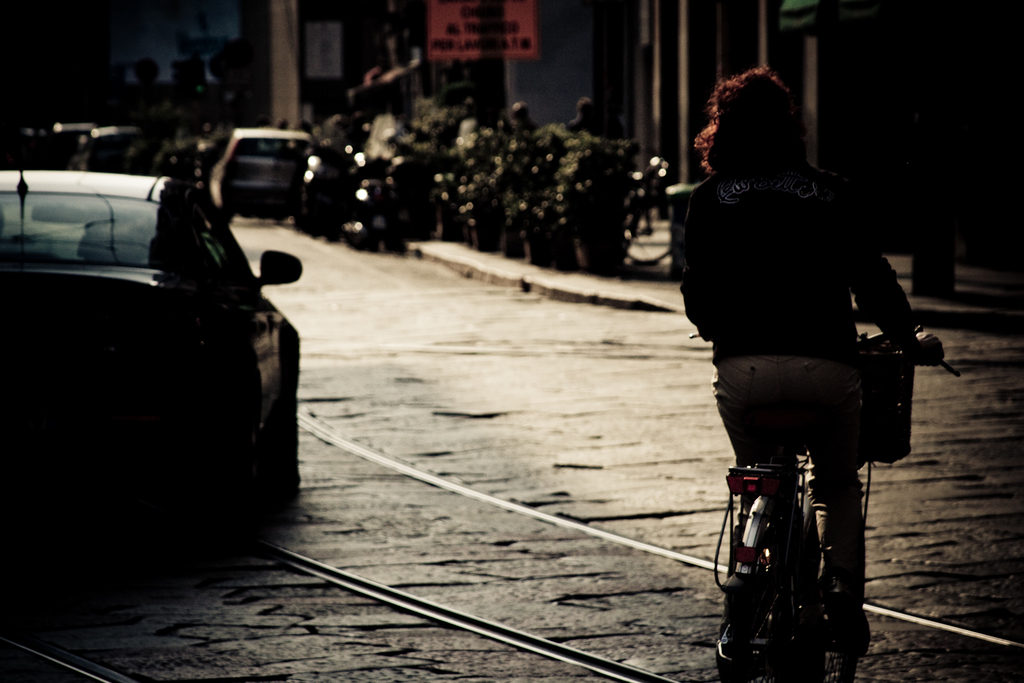Bicycle: (711, 328, 932, 683)
